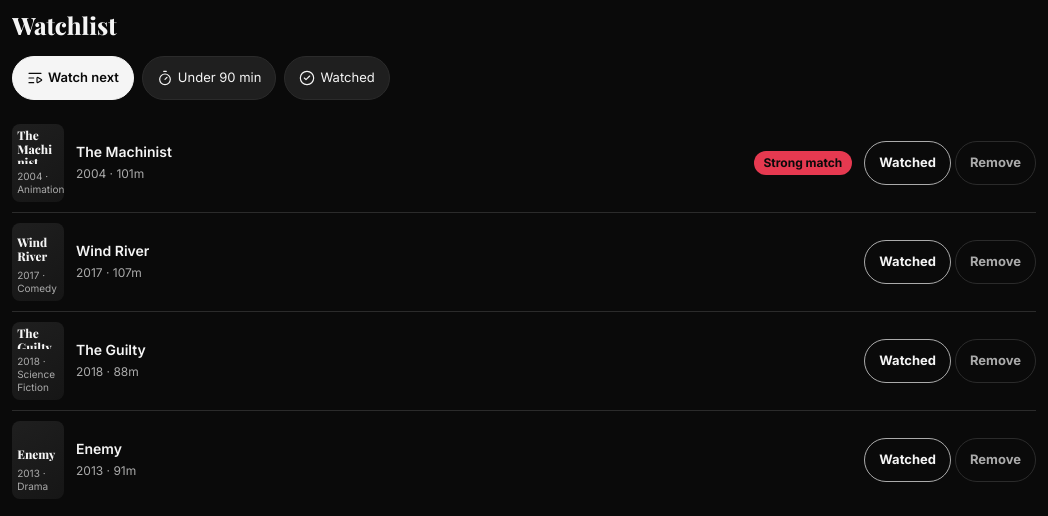
Test: Watchlist › removes the row from Watch next when it is marked watched
This screenshot has width=1048, height=516.
Expected: the link "The Machinist" is shown, [76, 143, 172, 160]
Click the button "Watched" in the row of "The Machinist" at (908, 163), box [864, 141, 951, 185]
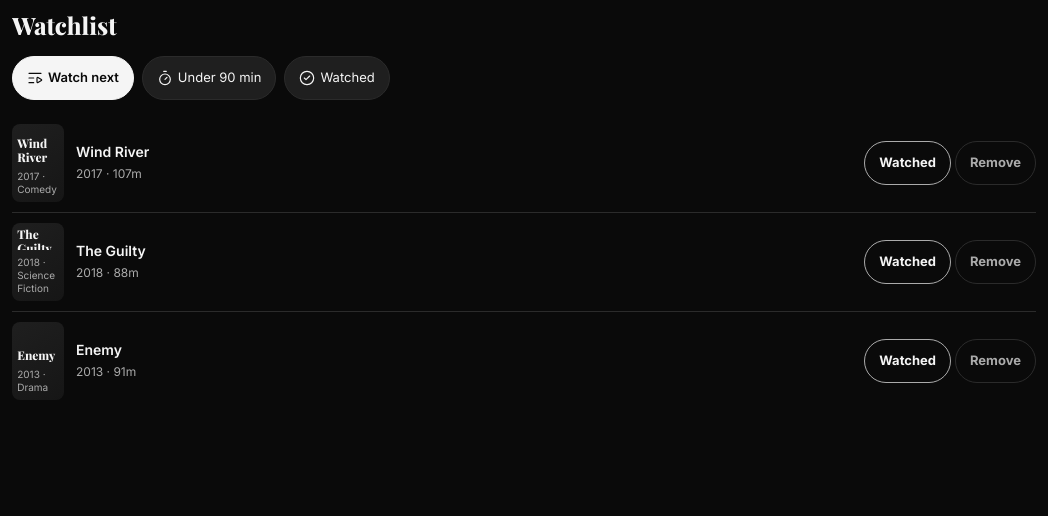
Expected: the link "The Machinist" no longer shows "The Machinist"
Click the 1st button "Watched" at (337, 78), box [284, 56, 390, 100]
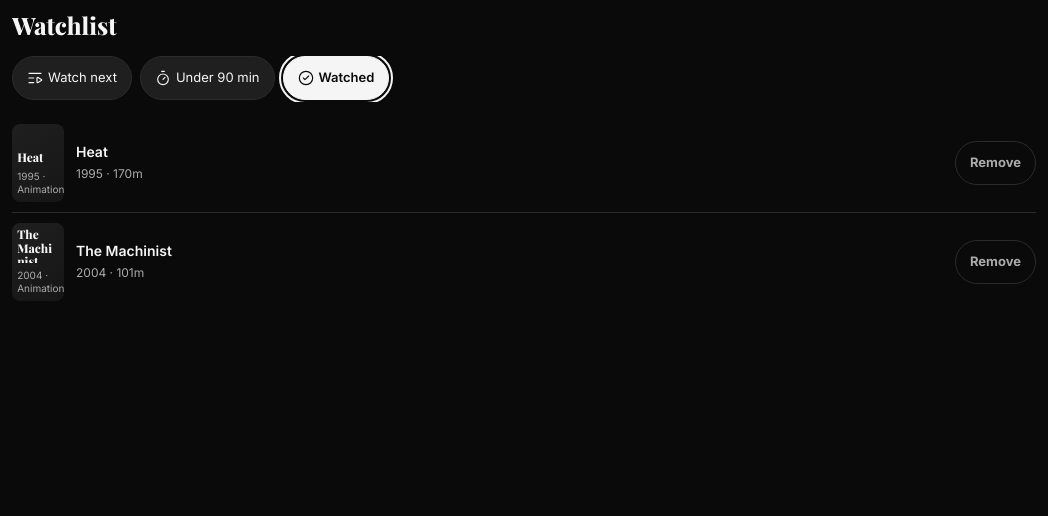
Expected: the link "The Machinist" is shown, [76, 242, 172, 259]
